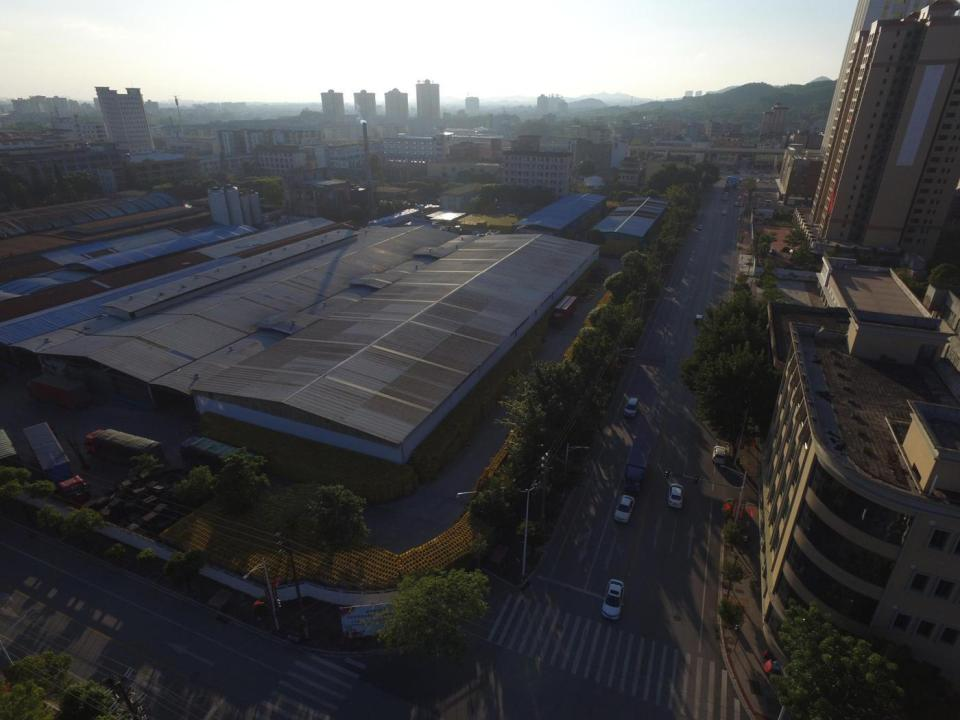car: (601, 578, 626, 620), (614, 494, 636, 524), (667, 483, 685, 508), (622, 396, 640, 418), (711, 444, 727, 464), (692, 314, 703, 324), (788, 248, 795, 255), (733, 201, 740, 207), (769, 248, 776, 254), (696, 224, 703, 229), (721, 210, 727, 214)
truck: (22, 420, 91, 504), (84, 428, 167, 476), (179, 436, 258, 486), (622, 437, 650, 493), (550, 294, 578, 328), (727, 175, 738, 184), (724, 182, 732, 192), (723, 190, 729, 201)
